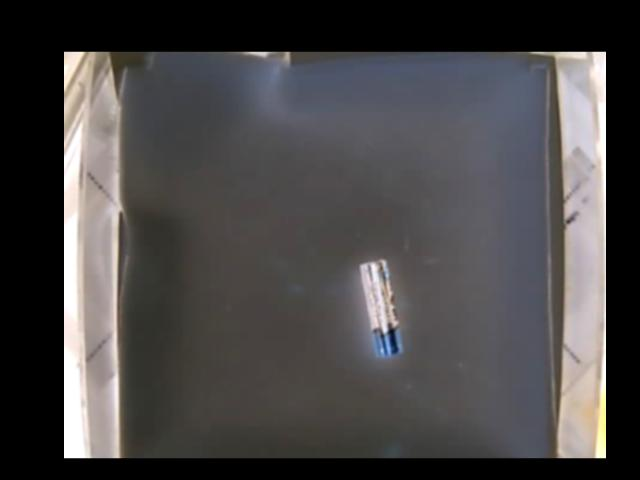Battery: (359, 260, 403, 355)
